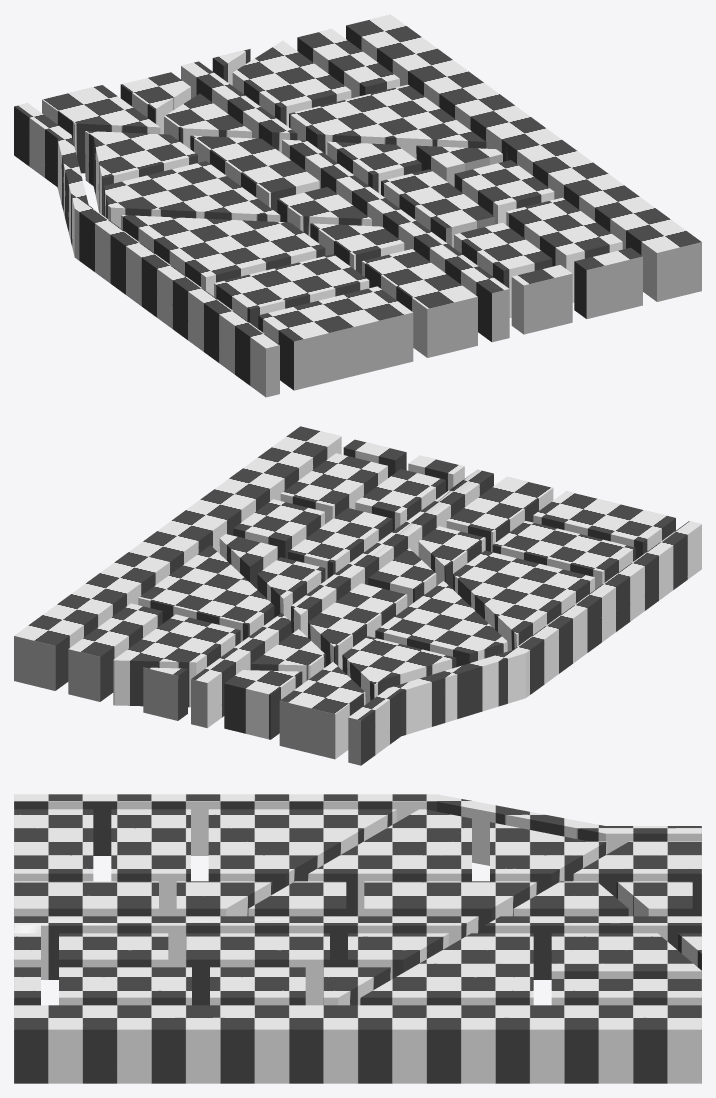
The model's file is SideWalk.fbx.
3 views of the same model, one above another, from view 1: azimuth 30°, elevation 25°; view 2: azimuth 150°, elevation 25°; view 3: azimuth 270°, elevation 25° (orthographic). The views are drawn at different scales.
Visible parts, largest first — view 1: pCube57; view 2: pCube57; view 3: pCube57.
Part boxes in pixels (x1,y1,x2,y2): pCube57: (14, 14, 701, 397); pCube57: (14, 426, 701, 765); pCube57: (14, 794, 701, 1083).
Size of the model in its own units: 9.31 by 1 by 11.51.
Materials: 1 (1 with a texture image).
